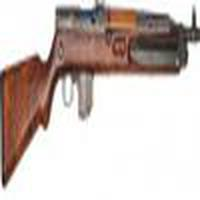gun: (1, 4, 200, 180)
